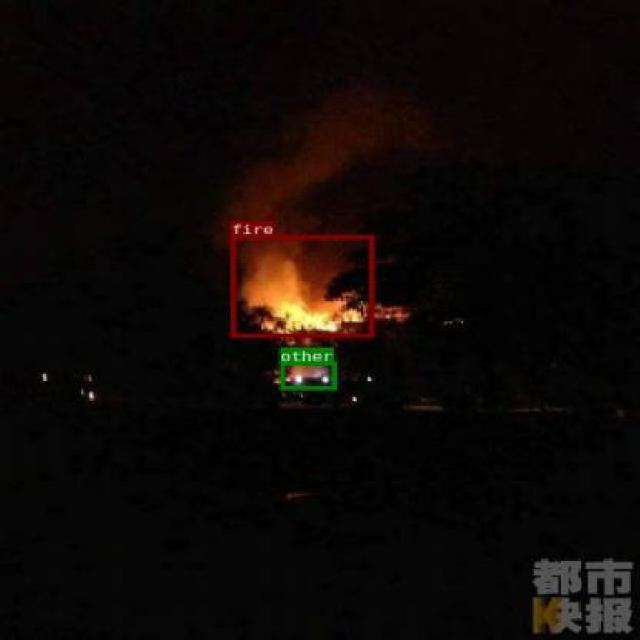Fire: (230, 235, 372, 336)
